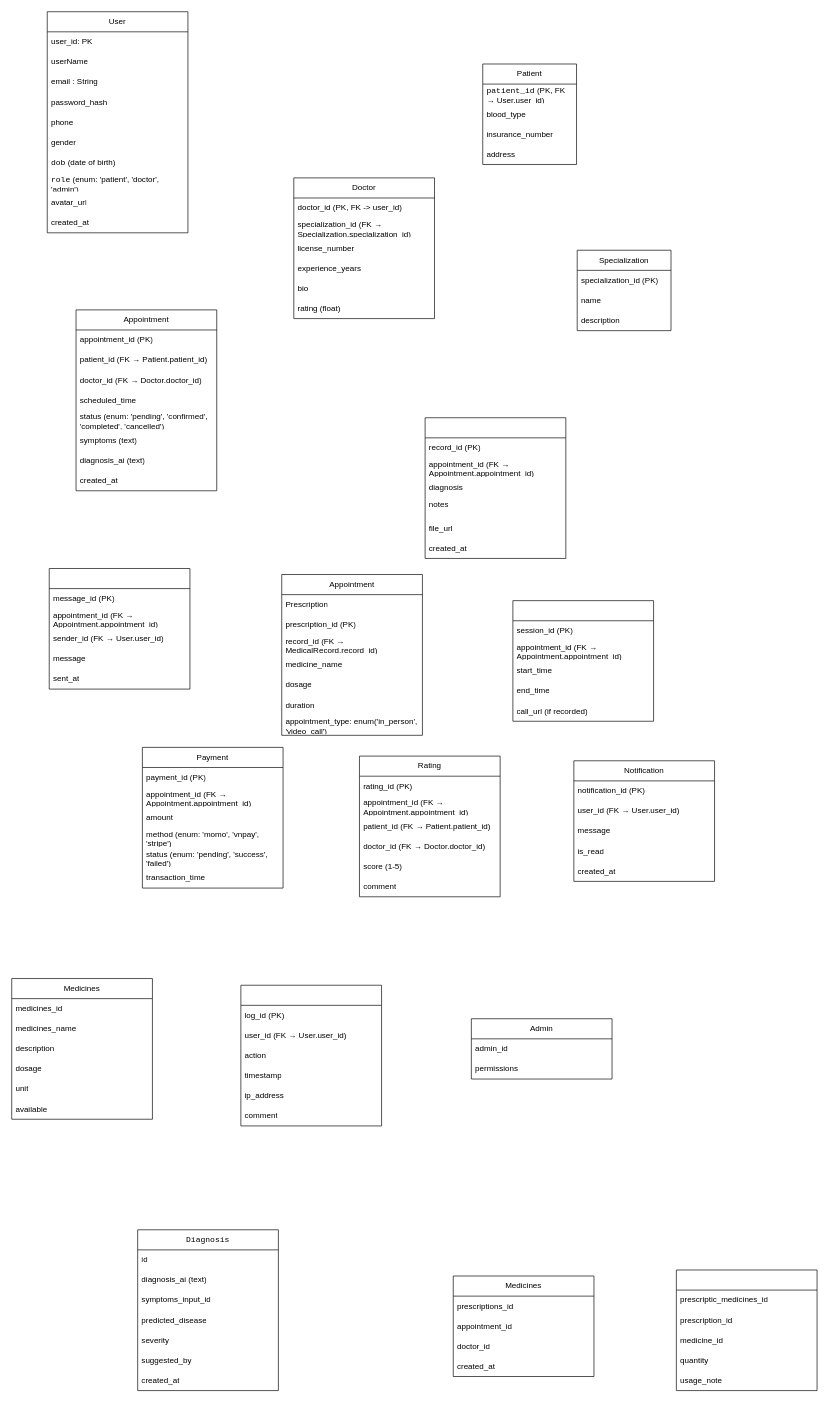
This 829x1402 diagram has some shape labels left out. Here are the shapes that lost their labels. From the top down, the box of each, then its label:
(424, 417, 566, 558): MedicalRecord
(49, 568, 190, 689): ChatMessage
(512, 600, 654, 721): VideoCallSession
(240, 985, 382, 1126): AuditLog
(676, 1269, 817, 1391): Prescription_Medicines
